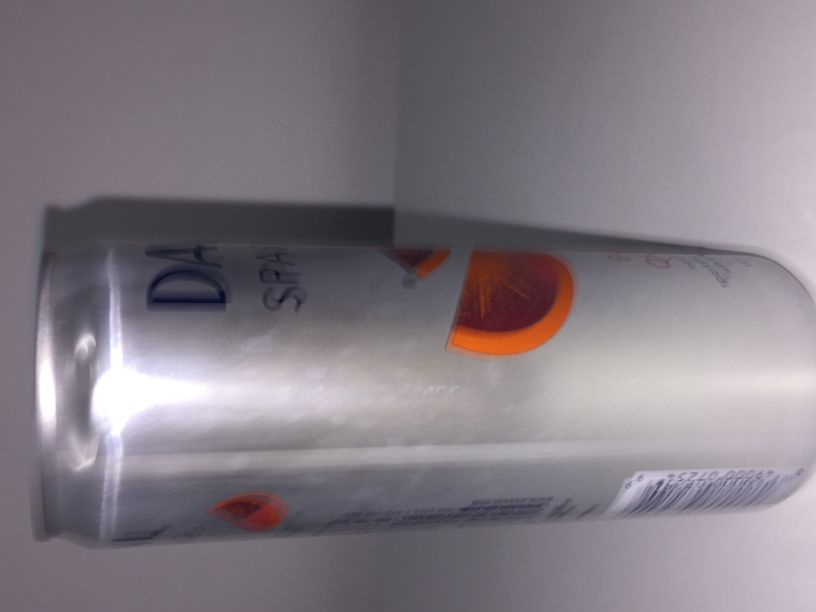blood_orange: (36, 242, 816, 549)
